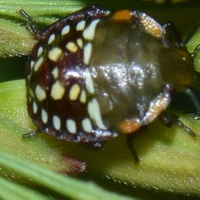insect: (0, 0, 199, 161)
